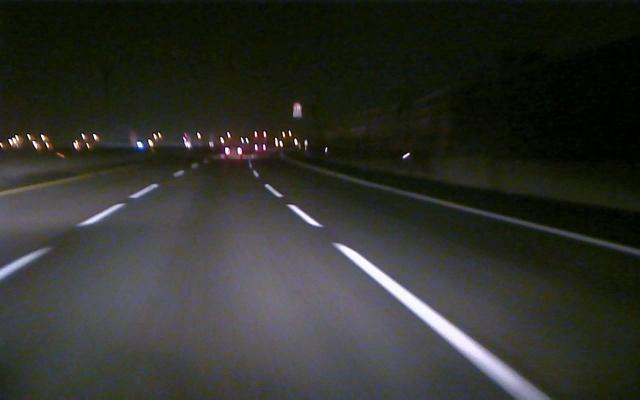lane: (262, 183, 552, 399), (333, 171, 640, 256), (3, 185, 156, 279)
